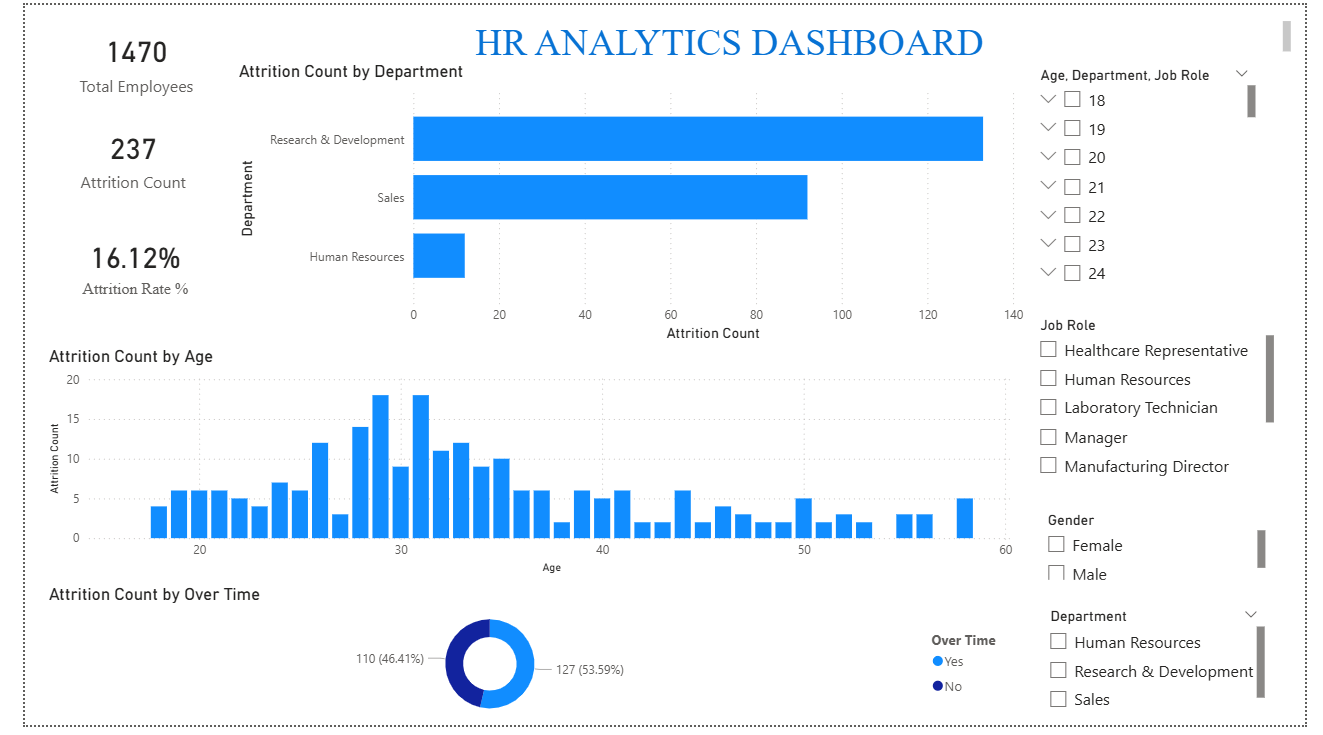

What the dashboard file says about the page in this screenshot:
{"tool":"powerbi","page":{"name":"Page 1","canvas":[1280,720],"ordinal":0},"visuals":[{"type":"card","fields":{"Values":["IBM-HR.Total Employees"]},"box":[14.9,0,193.2,112.2],"z":0},{"type":"card","fields":{"Values":["IBM-HR.Attrition Count"]},"box":[13.8,100.6,189.4,103.1],"z":1000},{"type":"clusteredBarChart","fields":{"Category":["IBM-HR.Department"],"Y":["IBM-HR.Attrition Count"]},"box":[208.6,56.3,794.5,285.4],"z":2000},{"type":"donutChart","fields":{"Category":["IBM-HR.Over Time"],"Y":["IBM-HR.Attrition Count"]},"box":[19.2,579.1,975.6,141.3],"z":3000},{"type":"columnChart","fields":{"Category":["IBM-HR.Age"],"Y":["IBM-HR.Attrition Count"]},"box":[19.2,341.7,975.6,231.9],"z":4000},{"type":"slicer","fields":{"Values":["IBM-HR.Age","IBM-HR.Department","IBM-HR.Job Role"]},"box":[1003.1,56.3,233.3,230.5],"z":5000},{"type":"slicer","fields":{"Values":["IBM-HR.Department"]},"box":[1012.2,597.3,232.4,112.2],"z":6000},{"type":"slicer","fields":{"Values":["IBM-HR.Gender"]},"box":[1009.5,501.4,235.1,78.4],"z":7000},{"type":"slicer","fields":{"Values":["IBM-HR.Job Role"]},"box":[1002.7,306.8,251.4,179.7],"z":8000},{"type":"textbox","box":[444.6,10.8,825.7,45.9],"z":9000},{"type":"card","fields":{"Values":["IBM-HR.Attrition Rate %"]},"box":[13.7,199,193.5,123.5],"z":10000}]}

Visuals, with their boxes in screenshot pixels (x1, y1, x2, y2), scaled from the page's 1280x720 canvas onto the 1323x735 screenshot:
card - IBM-HR.Total Employees: [15,0,215,115]
card - IBM-HR.Attrition Count: [14,103,210,208]
clusteredBarChart - IBM-HR.Department x IBM-HR.Attrition Count: [216,57,1037,349]
donutChart - IBM-HR.Over Time x IBM-HR.Attrition Count: [20,591,1028,734]
columnChart - IBM-HR.Age x IBM-HR.Attrition Count: [20,349,1028,586]
slicer - IBM-HR.Age x IBM-HR.Department: [1037,57,1278,293]
slicer - IBM-HR.Department: [1046,610,1286,724]
slicer - IBM-HR.Gender: [1043,512,1286,592]
slicer - IBM-HR.Job Role: [1036,313,1296,497]
textbox: [460,11,1313,58]
card - IBM-HR.Attrition Rate %: [14,203,214,329]
